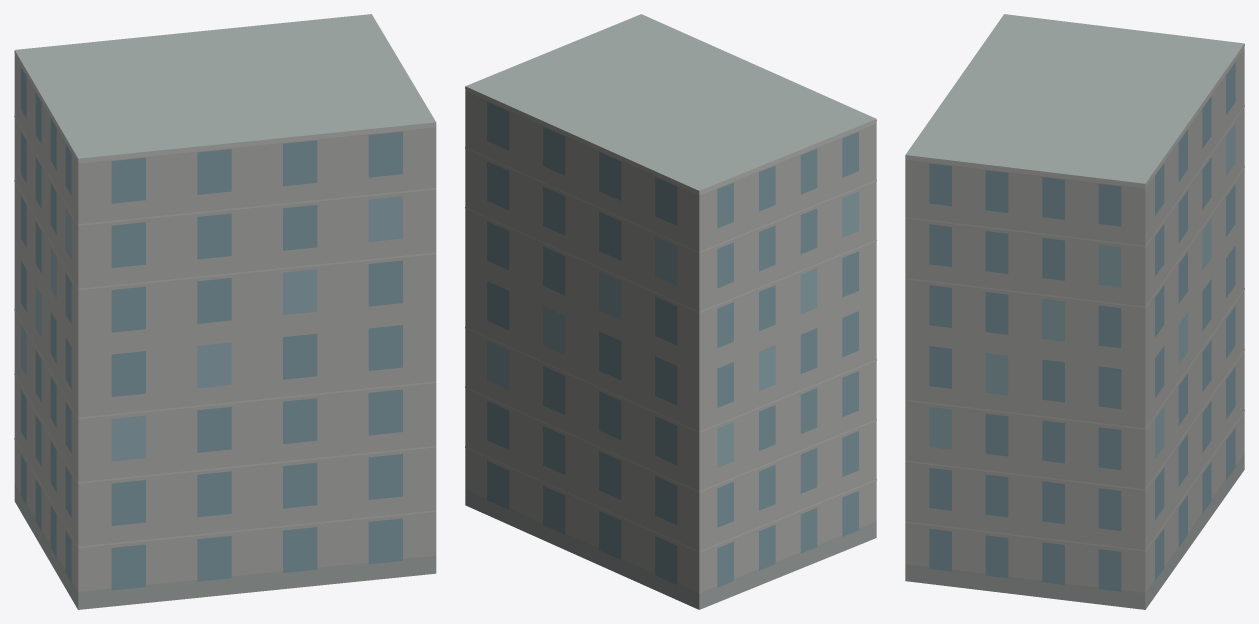
Rendered from survey-upis-32876959.glb.
The picture shows the model from 3 angles, left to right: view 1: azimuth 30°, elevation 25°; view 2: azimuth 150°, elevation 25°; view 3: azimuth 270°, elevation 25°; orthographic projection. The views are drawn at different scales.
Visible parts, largest first — view 1: survey-upis-32876959.tmp; view 2: survey-upis-32876959.tmp; view 3: survey-upis-32876959.tmp.
Boxes of the visible parts, x1,y1,x2,y2 form: survey-upis-32876959.tmp: [14, 14, 436, 609]; survey-upis-32876959.tmp: [465, 14, 876, 609]; survey-upis-32876959.tmp: [905, 14, 1244, 609].
Bounding box in the file's own units: 18.95 × 22.15 × 16.01.
